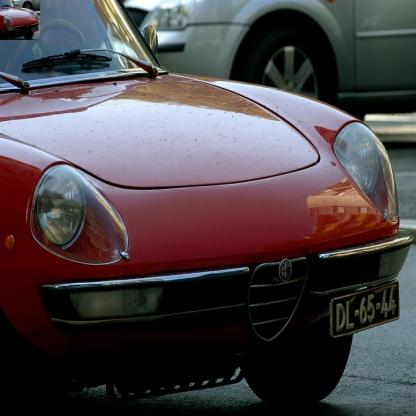Car: (1, 1, 415, 409), (97, 1, 416, 127)
